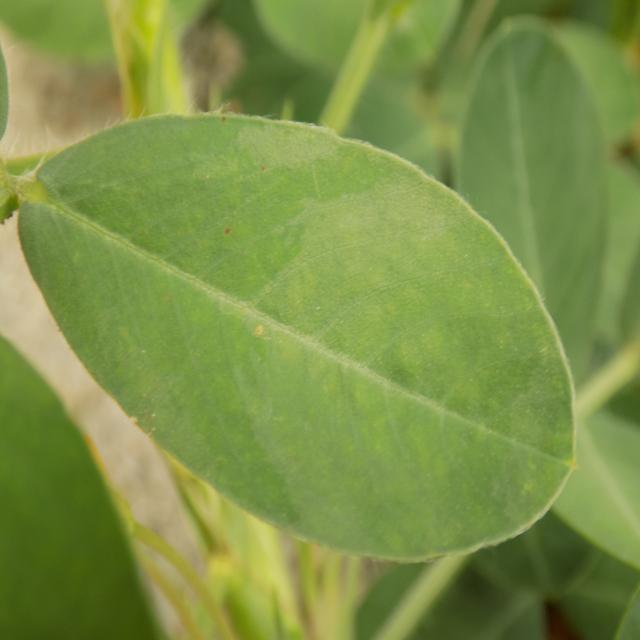Ground nut_healthy: (12, 112, 576, 566)
